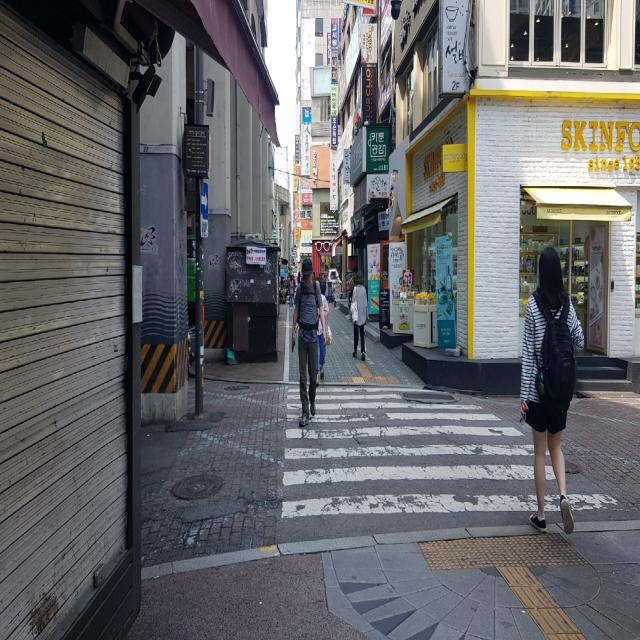횡단보도: (280, 384, 621, 524)
